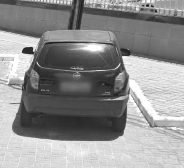car: (18, 28, 134, 132)
